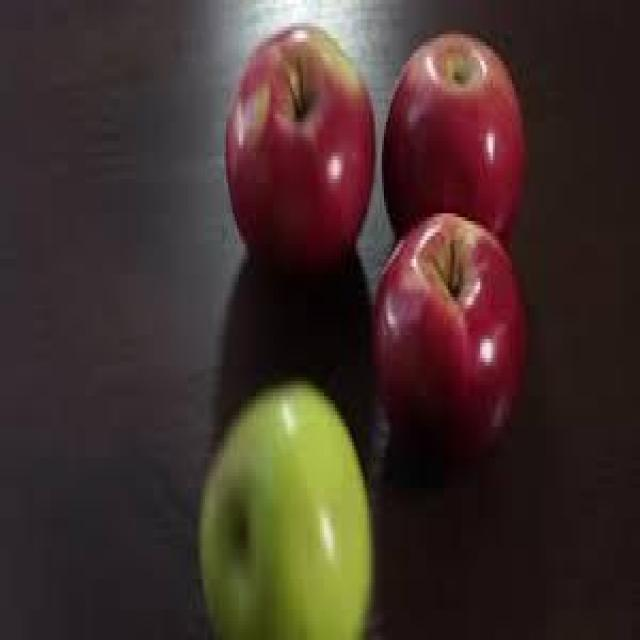maca: (187, 350, 381, 640), (377, 185, 541, 472), (373, 8, 545, 250), (223, 11, 366, 276)
